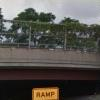Bridge: (5, 35, 98, 85)
